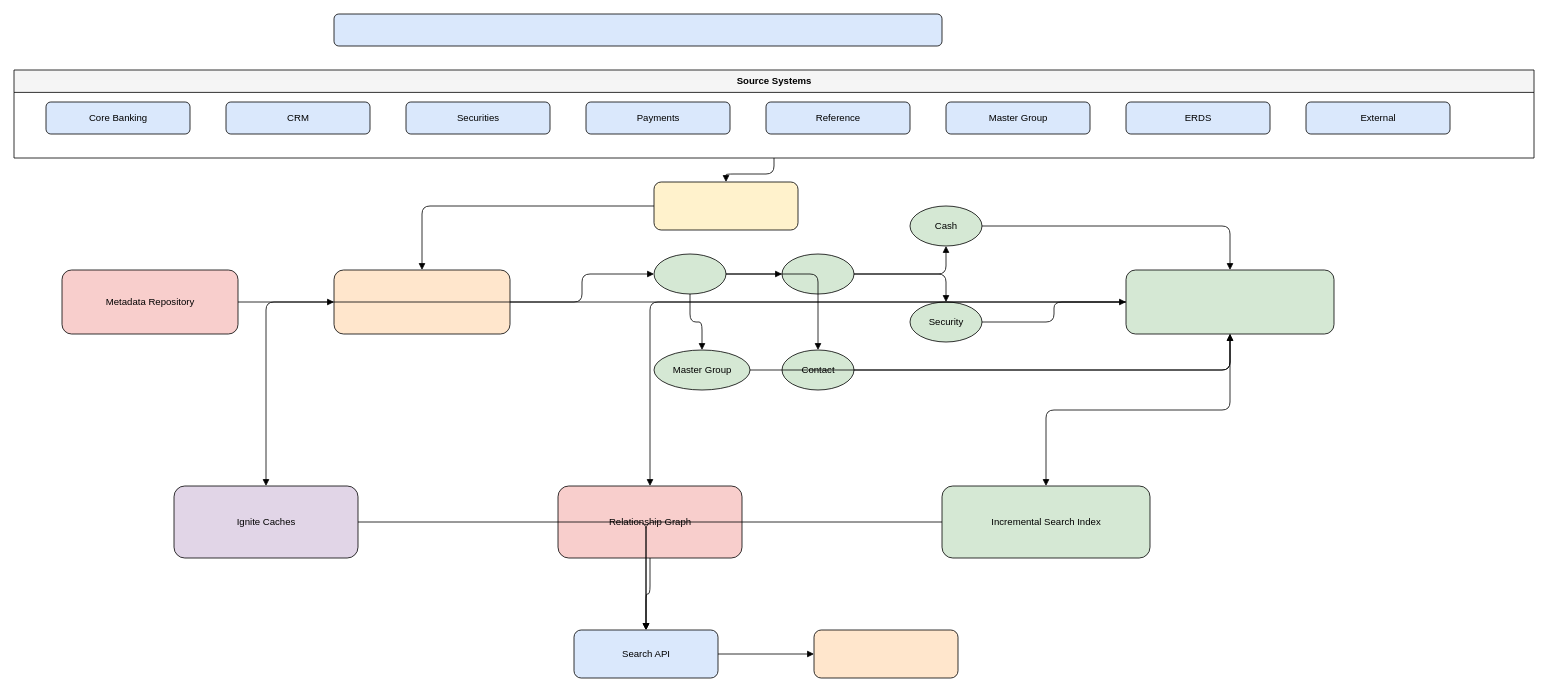
Some shapes in this 1548 by 692 pixel diagram are drawn without their labels. Here are the shapes that lost their labels. From the top down, the centre of each, then its label:
[637,29]: CLIENT360 EVENT-DRIVEN RELATIONSHIP EXPANSION
[725,205]: Entity Event
[689,273]: Party
[817,273]: Account
[421,301]: DAG Planner
[1229,301]: Incremental Client360 Update
[885,653]: Client360 UI
